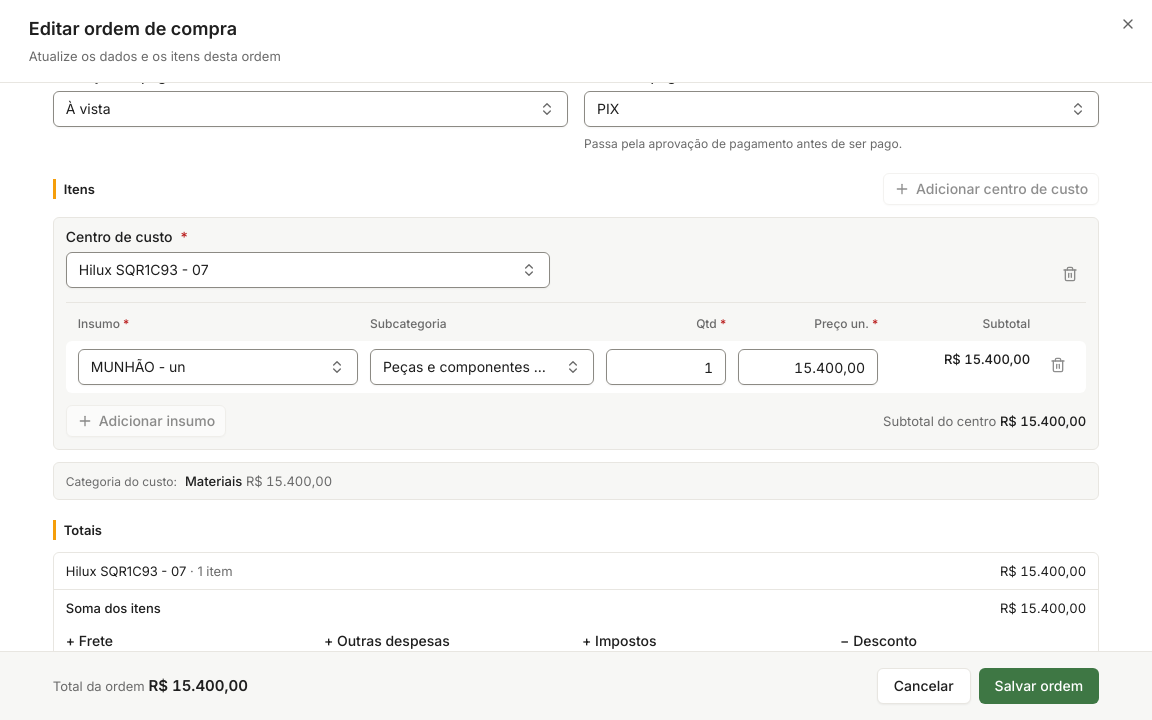
Test: trocar a categoria do insumo dentro da OC › trocar a subcategoria mostra o aviso, com o de/para dela E o do DRE
(page scrolled)
Click the dropdown named "subcategoria": (482, 367) x1=370 y1=349 x2=594 y2=385
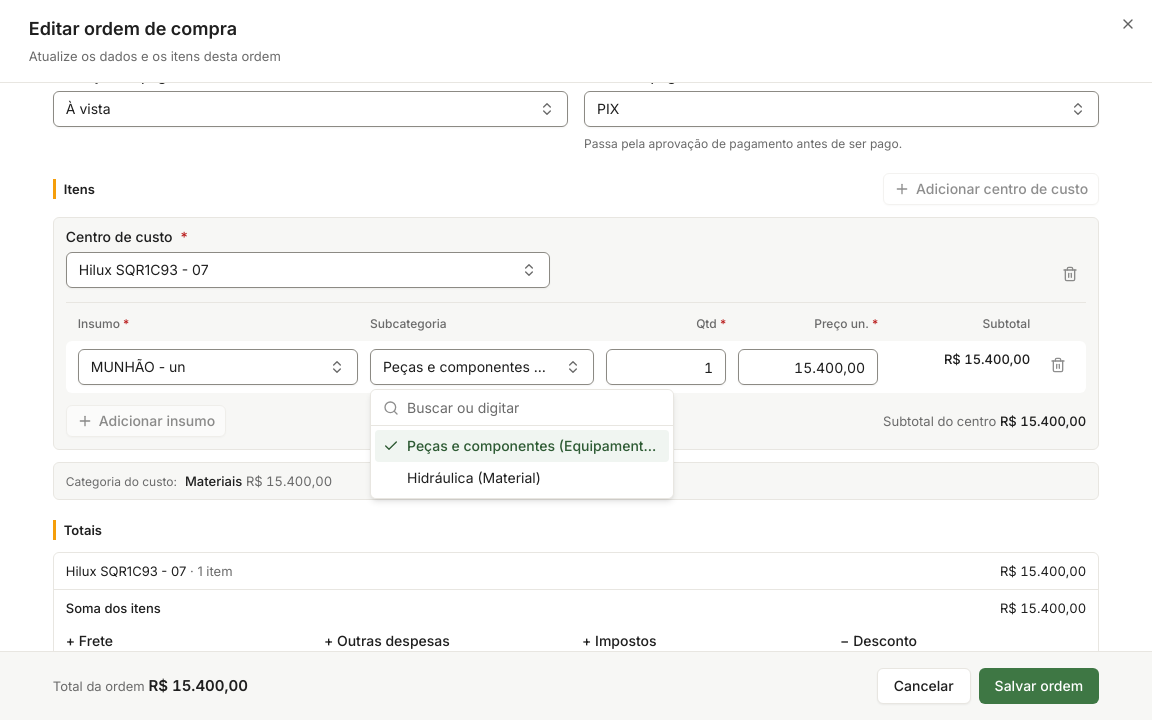
Click the option "Hidráulica (Material)": (474, 478) x1=407 y1=469 x2=541 y2=486
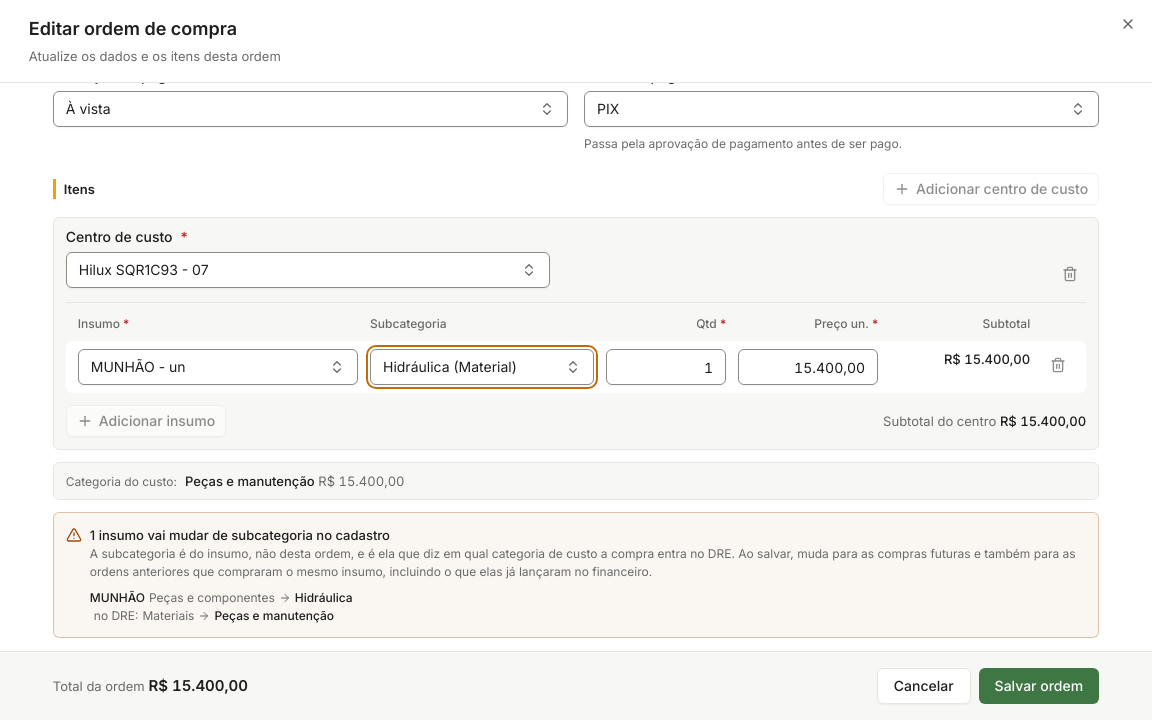
Check: the text "1 insumo vai mudar de subcategoria no cadastro" is shown, box x1=90 y1=527 x2=390 y2=543
Check: the text "ordens anteriores" is shown, box x1=90 y1=546 x2=1076 y2=579
Check: the text "MUNHÃO" is shown, box x1=90 y1=589 x2=145 y2=607
